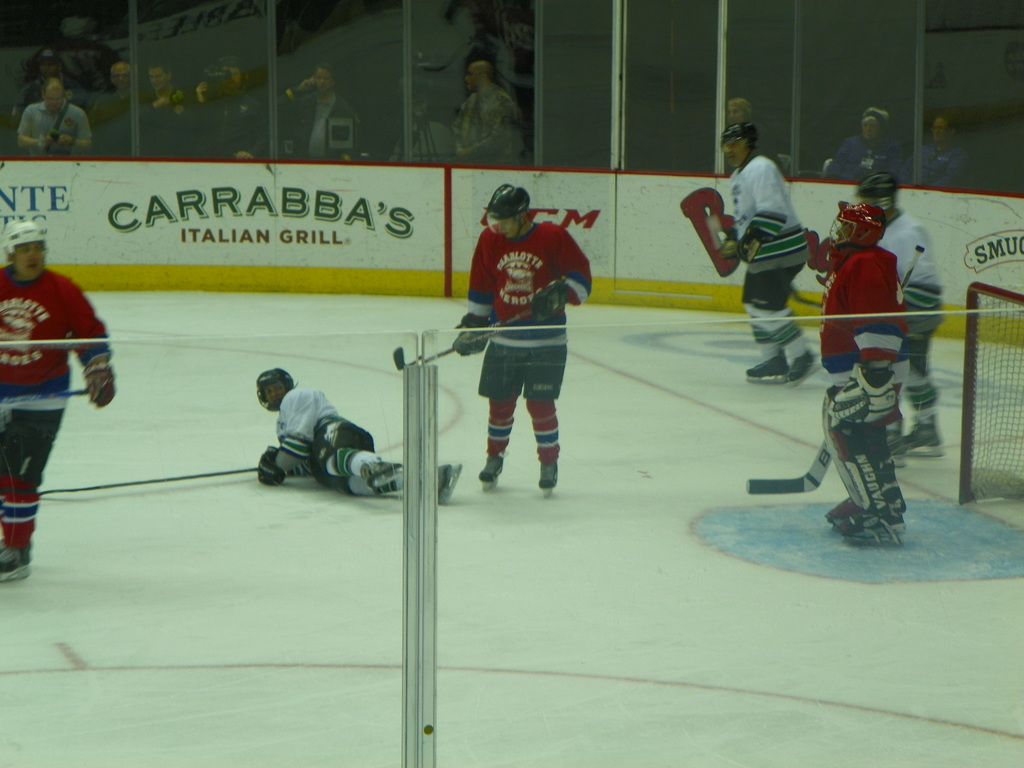Person: (4, 12, 524, 163), (451, 182, 594, 492), (0, 217, 112, 580), (814, 201, 909, 550), (256, 367, 463, 506), (716, 122, 815, 389), (878, 170, 945, 459), (820, 106, 907, 184), (907, 112, 967, 193), (721, 96, 755, 124)
